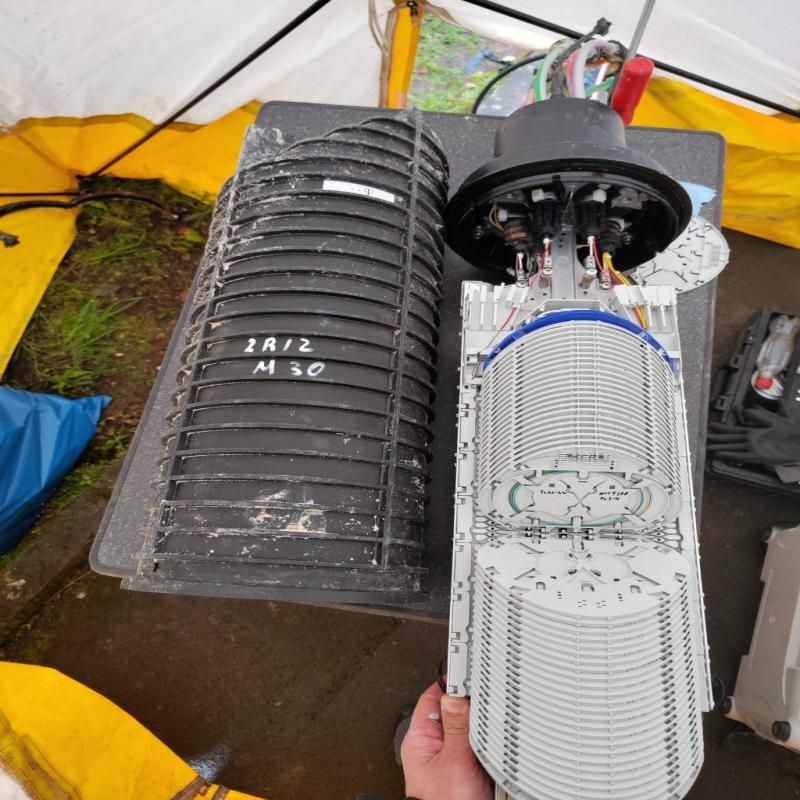NT-Muffen: (437, 93, 719, 800)
